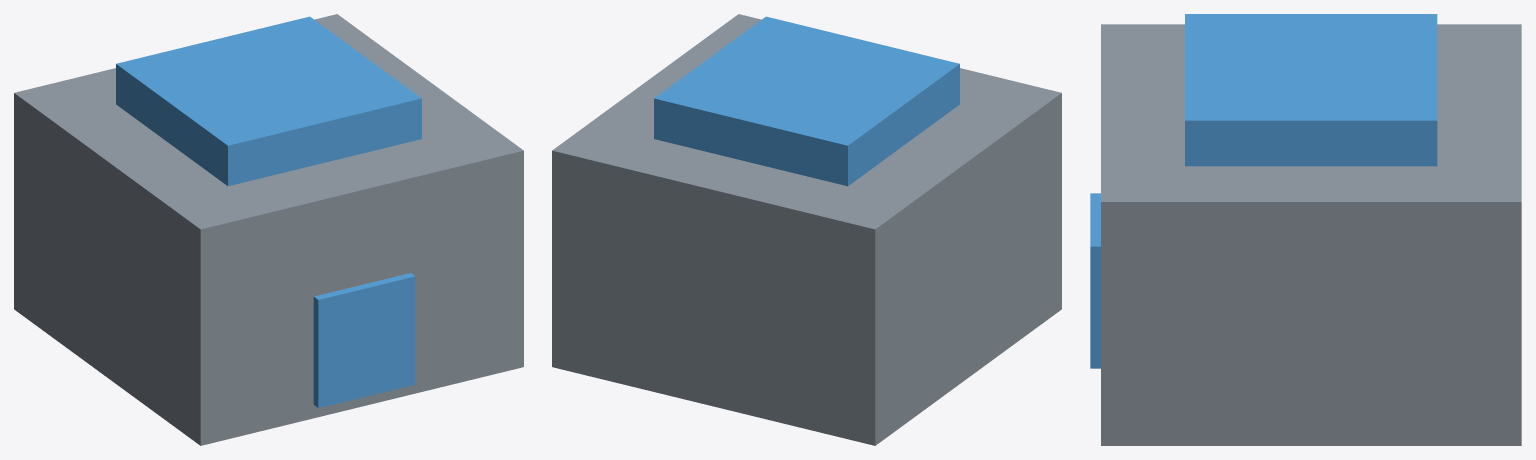
File: AL_ShieldProjectorBuilding_LOD0.glb
3 views of the same model, side by side, from view 1: azimuth 30°, elevation 25°; view 2: azimuth 150°, elevation 25°; view 3: azimuth 270°, elevation 25° (orthographic). The views are drawn at different scales.
Parts seen in each view (by area): view 1: EntranceGate; view 2: EntranceGate; view 3: EntranceGate.
Boxes of the visible parts, bbox=[...] form: EntranceGate: bbox=[14, 14, 523, 445]; EntranceGate: bbox=[552, 14, 1061, 445]; EntranceGate: bbox=[1090, 14, 1521, 445].
Bounding box in the file's own units: 400 × 304 × 410.
